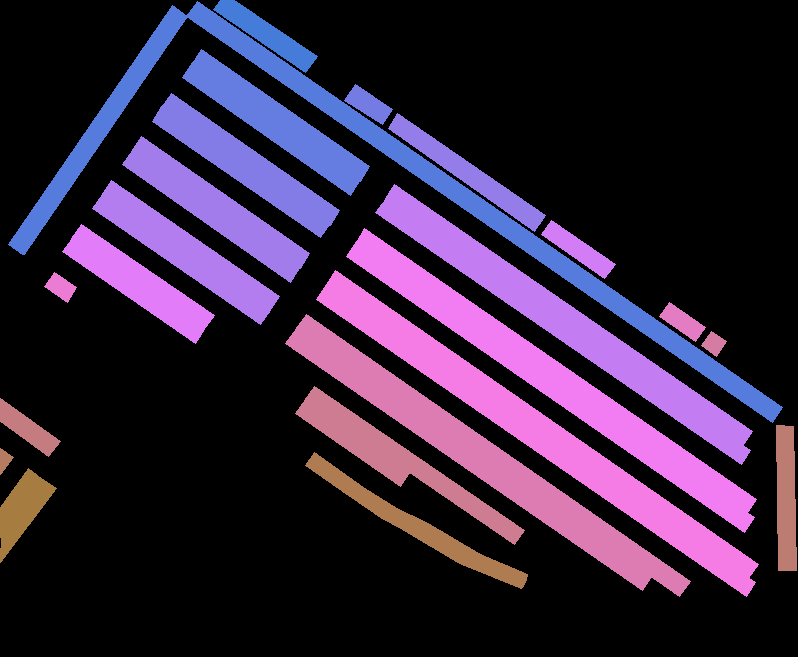parkingspot: (186, 1, 782, 422), (316, 284, 755, 596), (325, 270, 758, 578), (346, 241, 754, 532), (356, 228, 756, 514), (295, 314, 690, 596), (375, 198, 750, 464), (385, 184, 752, 446), (285, 328, 652, 590), (8, 5, 187, 254), (304, 386, 524, 544), (305, 452, 527, 588), (182, 62, 360, 195), (161, 93, 339, 225), (131, 136, 309, 268), (122, 150, 300, 282), (192, 49, 369, 181), (152, 106, 330, 237), (101, 180, 279, 311), (92, 194, 270, 324), (388, 113, 545, 231), (71, 224, 214, 330), (62, 238, 204, 343), (295, 399, 410, 486), (213, 0, 317, 72), (0, 478, 56, 562), (541, 220, 615, 278), (0, 398, 60, 456), (776, 425, 796, 570), (0, 468, 42, 537), (344, 84, 392, 124), (659, 302, 705, 341), (44, 272, 76, 302), (701, 331, 726, 356), (0, 448, 13, 474)
